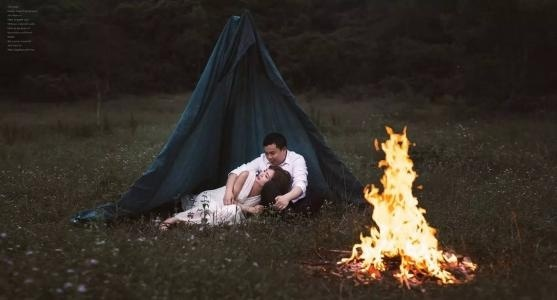fire: (342, 124, 478, 285)
